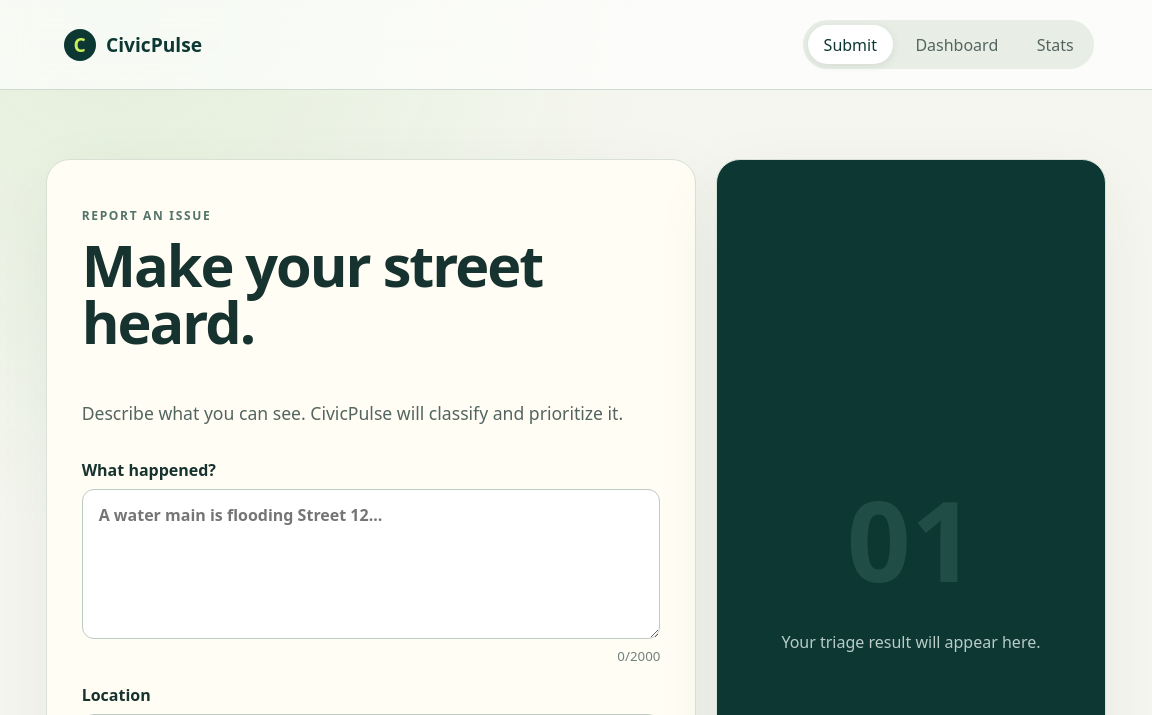
CivicPulse › loads dashboard complaints and server-provided transitions
This screenshot has width=1152, height=715.
Click the button "Dashboard". click: (957, 45)
box: [899, 25, 1014, 64]
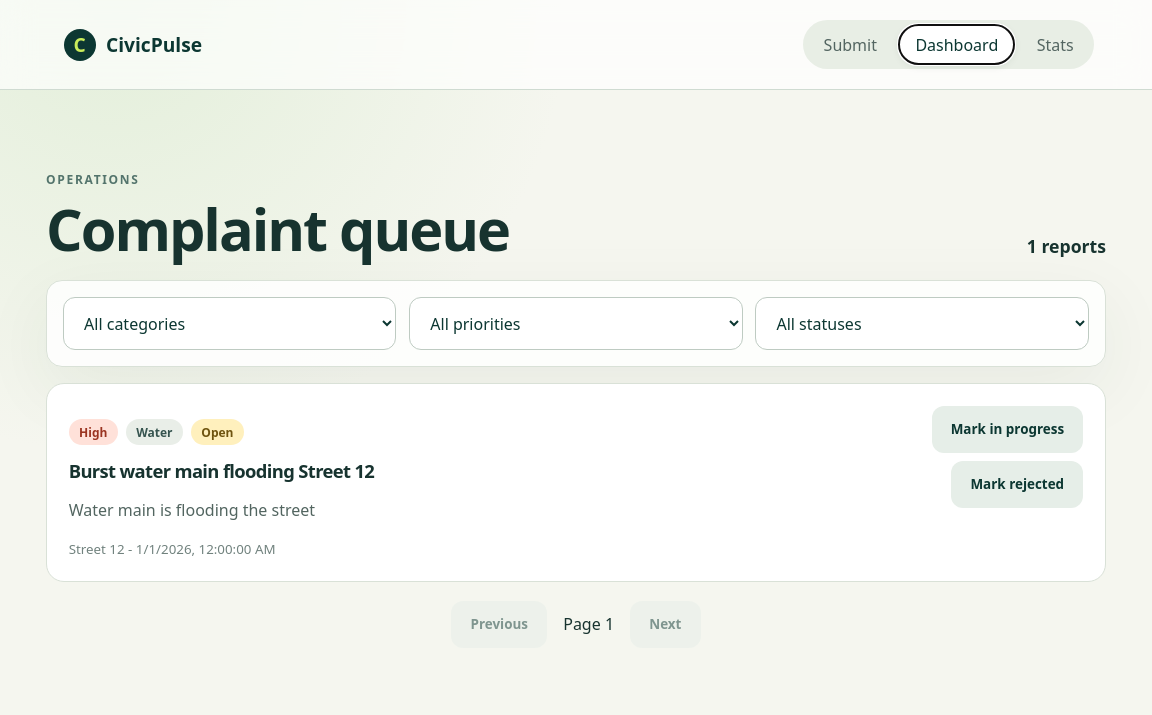
Expected: the heading "Burst water main flooding Street 12" is shown, [69, 458, 374, 483]
Expected: the button "Mark in progress" is shown, [932, 406, 1083, 453]
